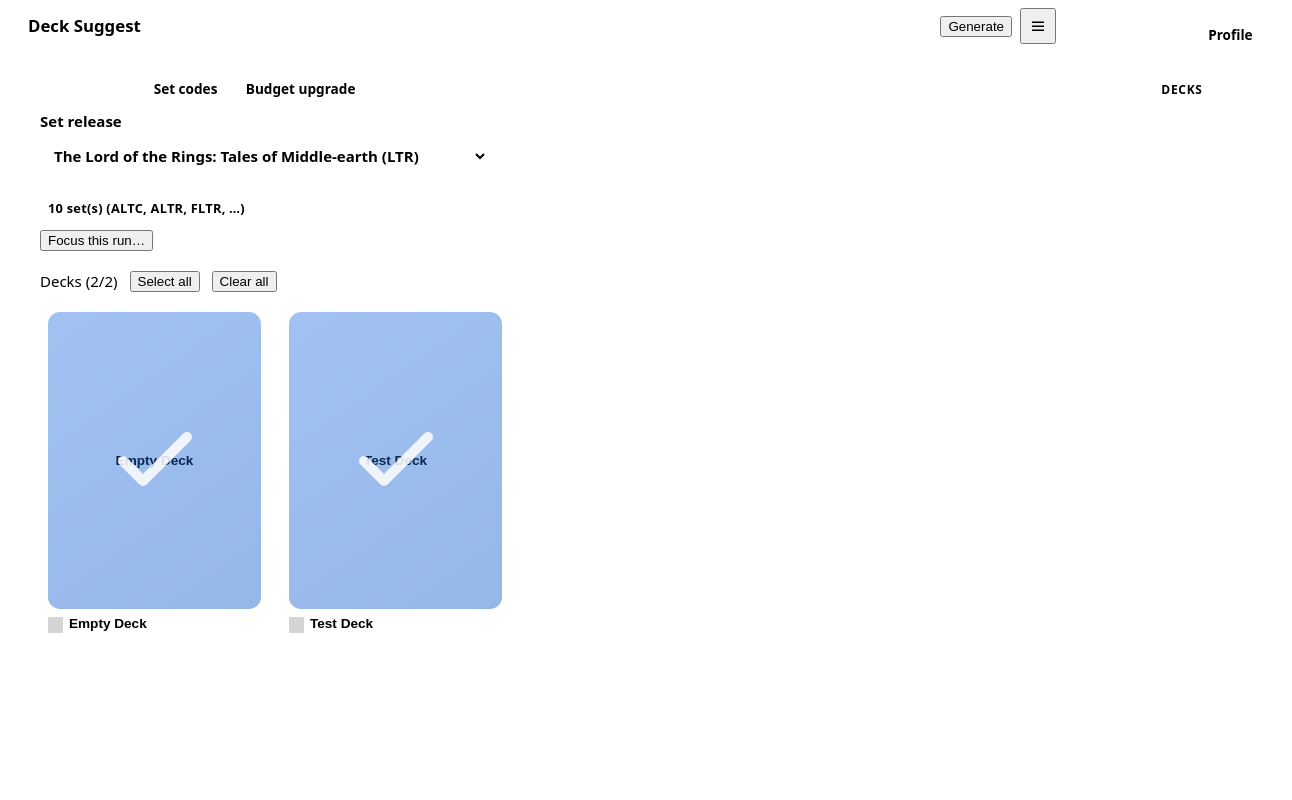
Test: DeckSuggestSetup › set-release readiness unchanged when budget tab exists
Click the tab "Budget upgrade" at (301, 89), box x1=235 y1=76 x2=367 y2=101
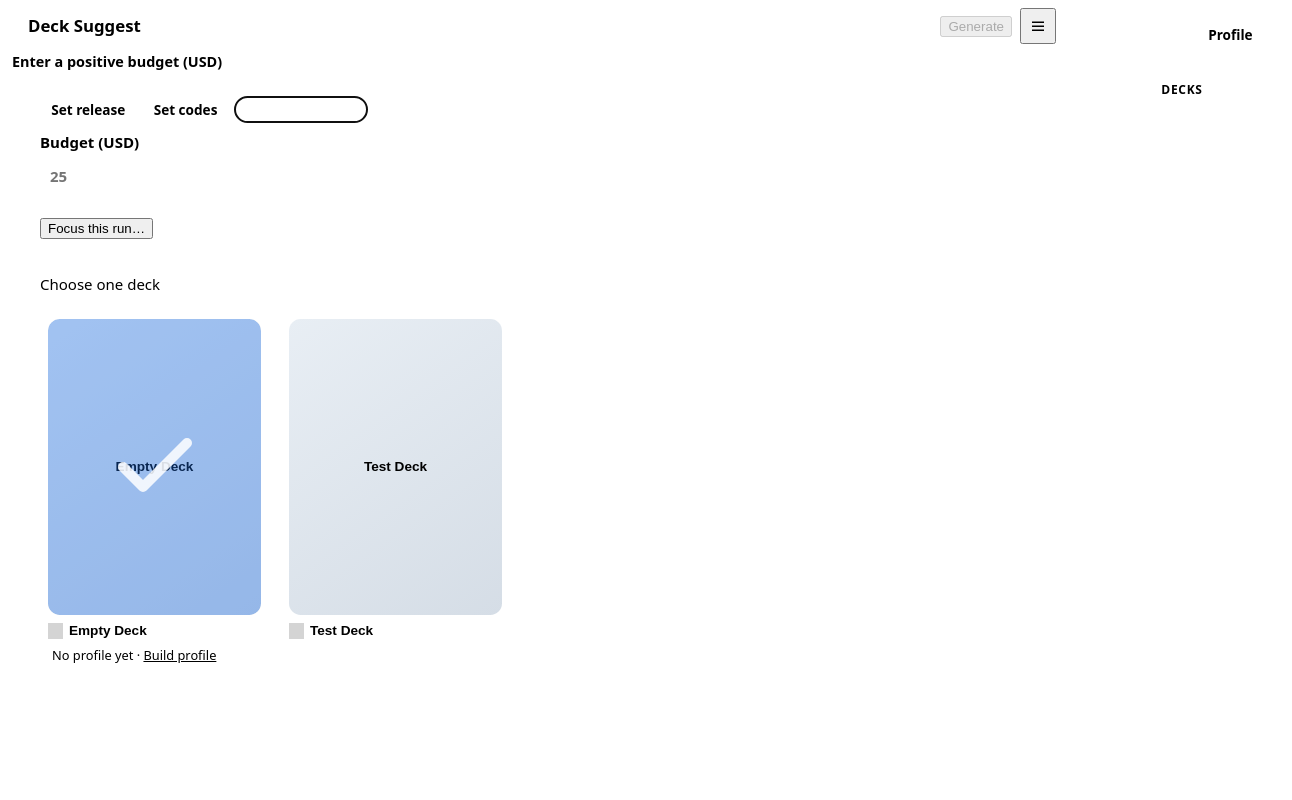
Click the tab "Set release" at (88, 110), box x1=40 y1=97 x2=136 y2=122
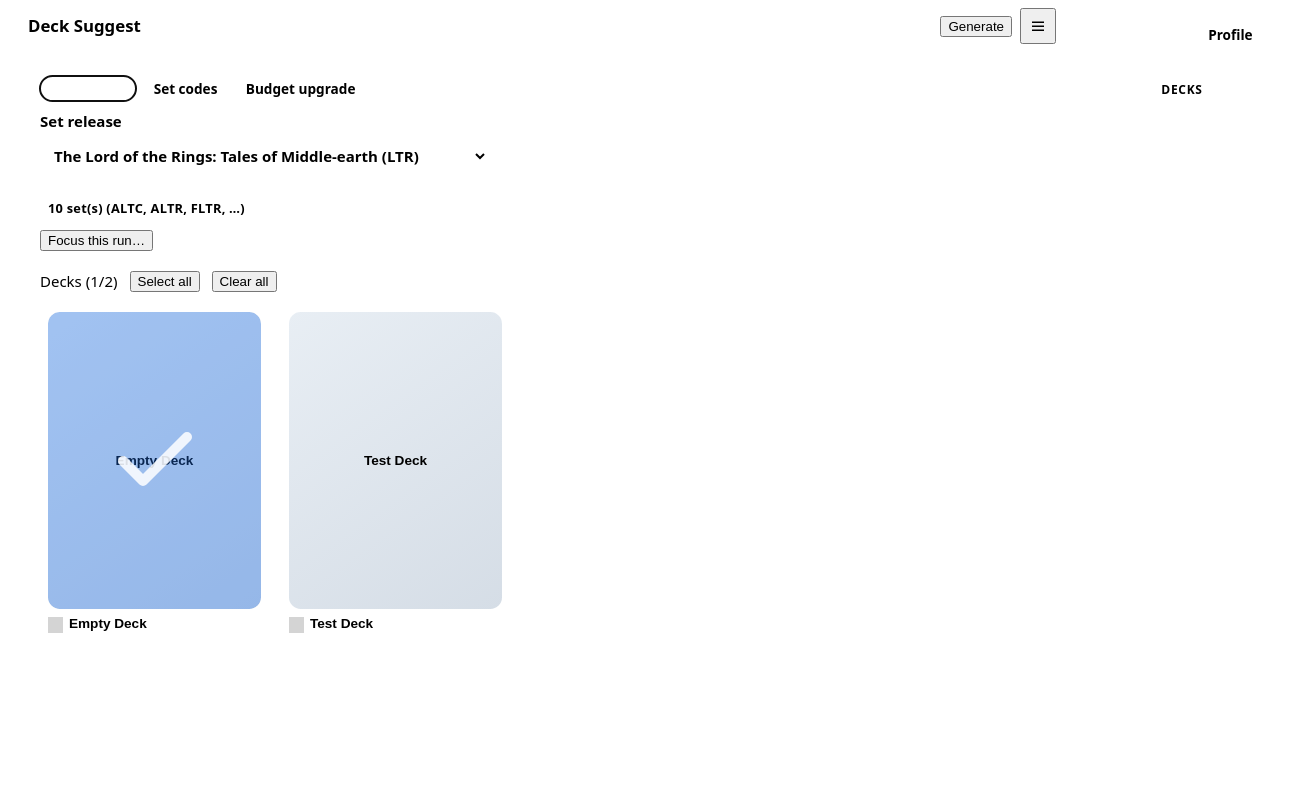
Result: the dropdown showing "Lord of the Rings" is shown at x1=40 y1=137 x2=488 y2=175
